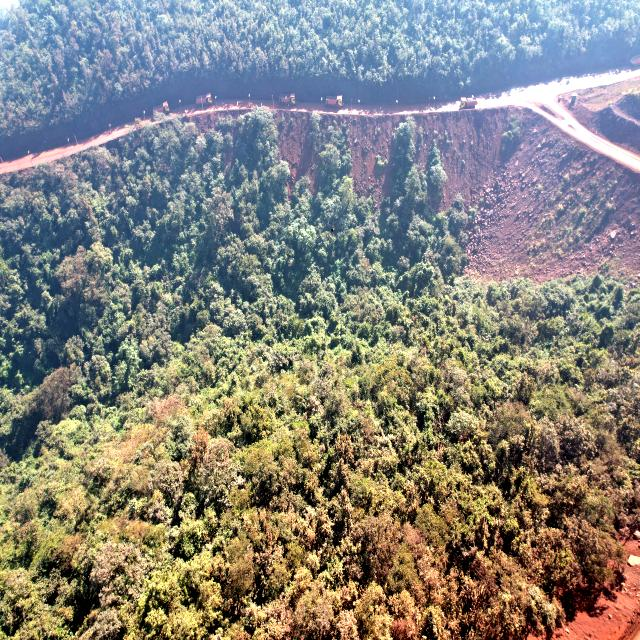Dumper truck: (326, 96, 343, 108), (460, 98, 477, 109), (279, 94, 295, 105), (196, 94, 212, 105), (627, 554, 640, 566), (161, 102, 169, 113)
